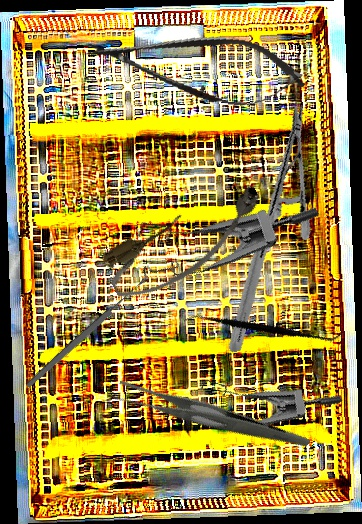Cannula: (96, 175, 277, 310)
Dressing Forceps: (110, 334, 311, 503)
Micro Scissor: (79, 14, 312, 119)
Needle Holder: (176, 103, 358, 354)
Spatula Surgical: (182, 259, 345, 394)
Speculum: (118, 140, 322, 314), (185, 338, 344, 452)
Surgical Spoon: (24, 275, 150, 390)
